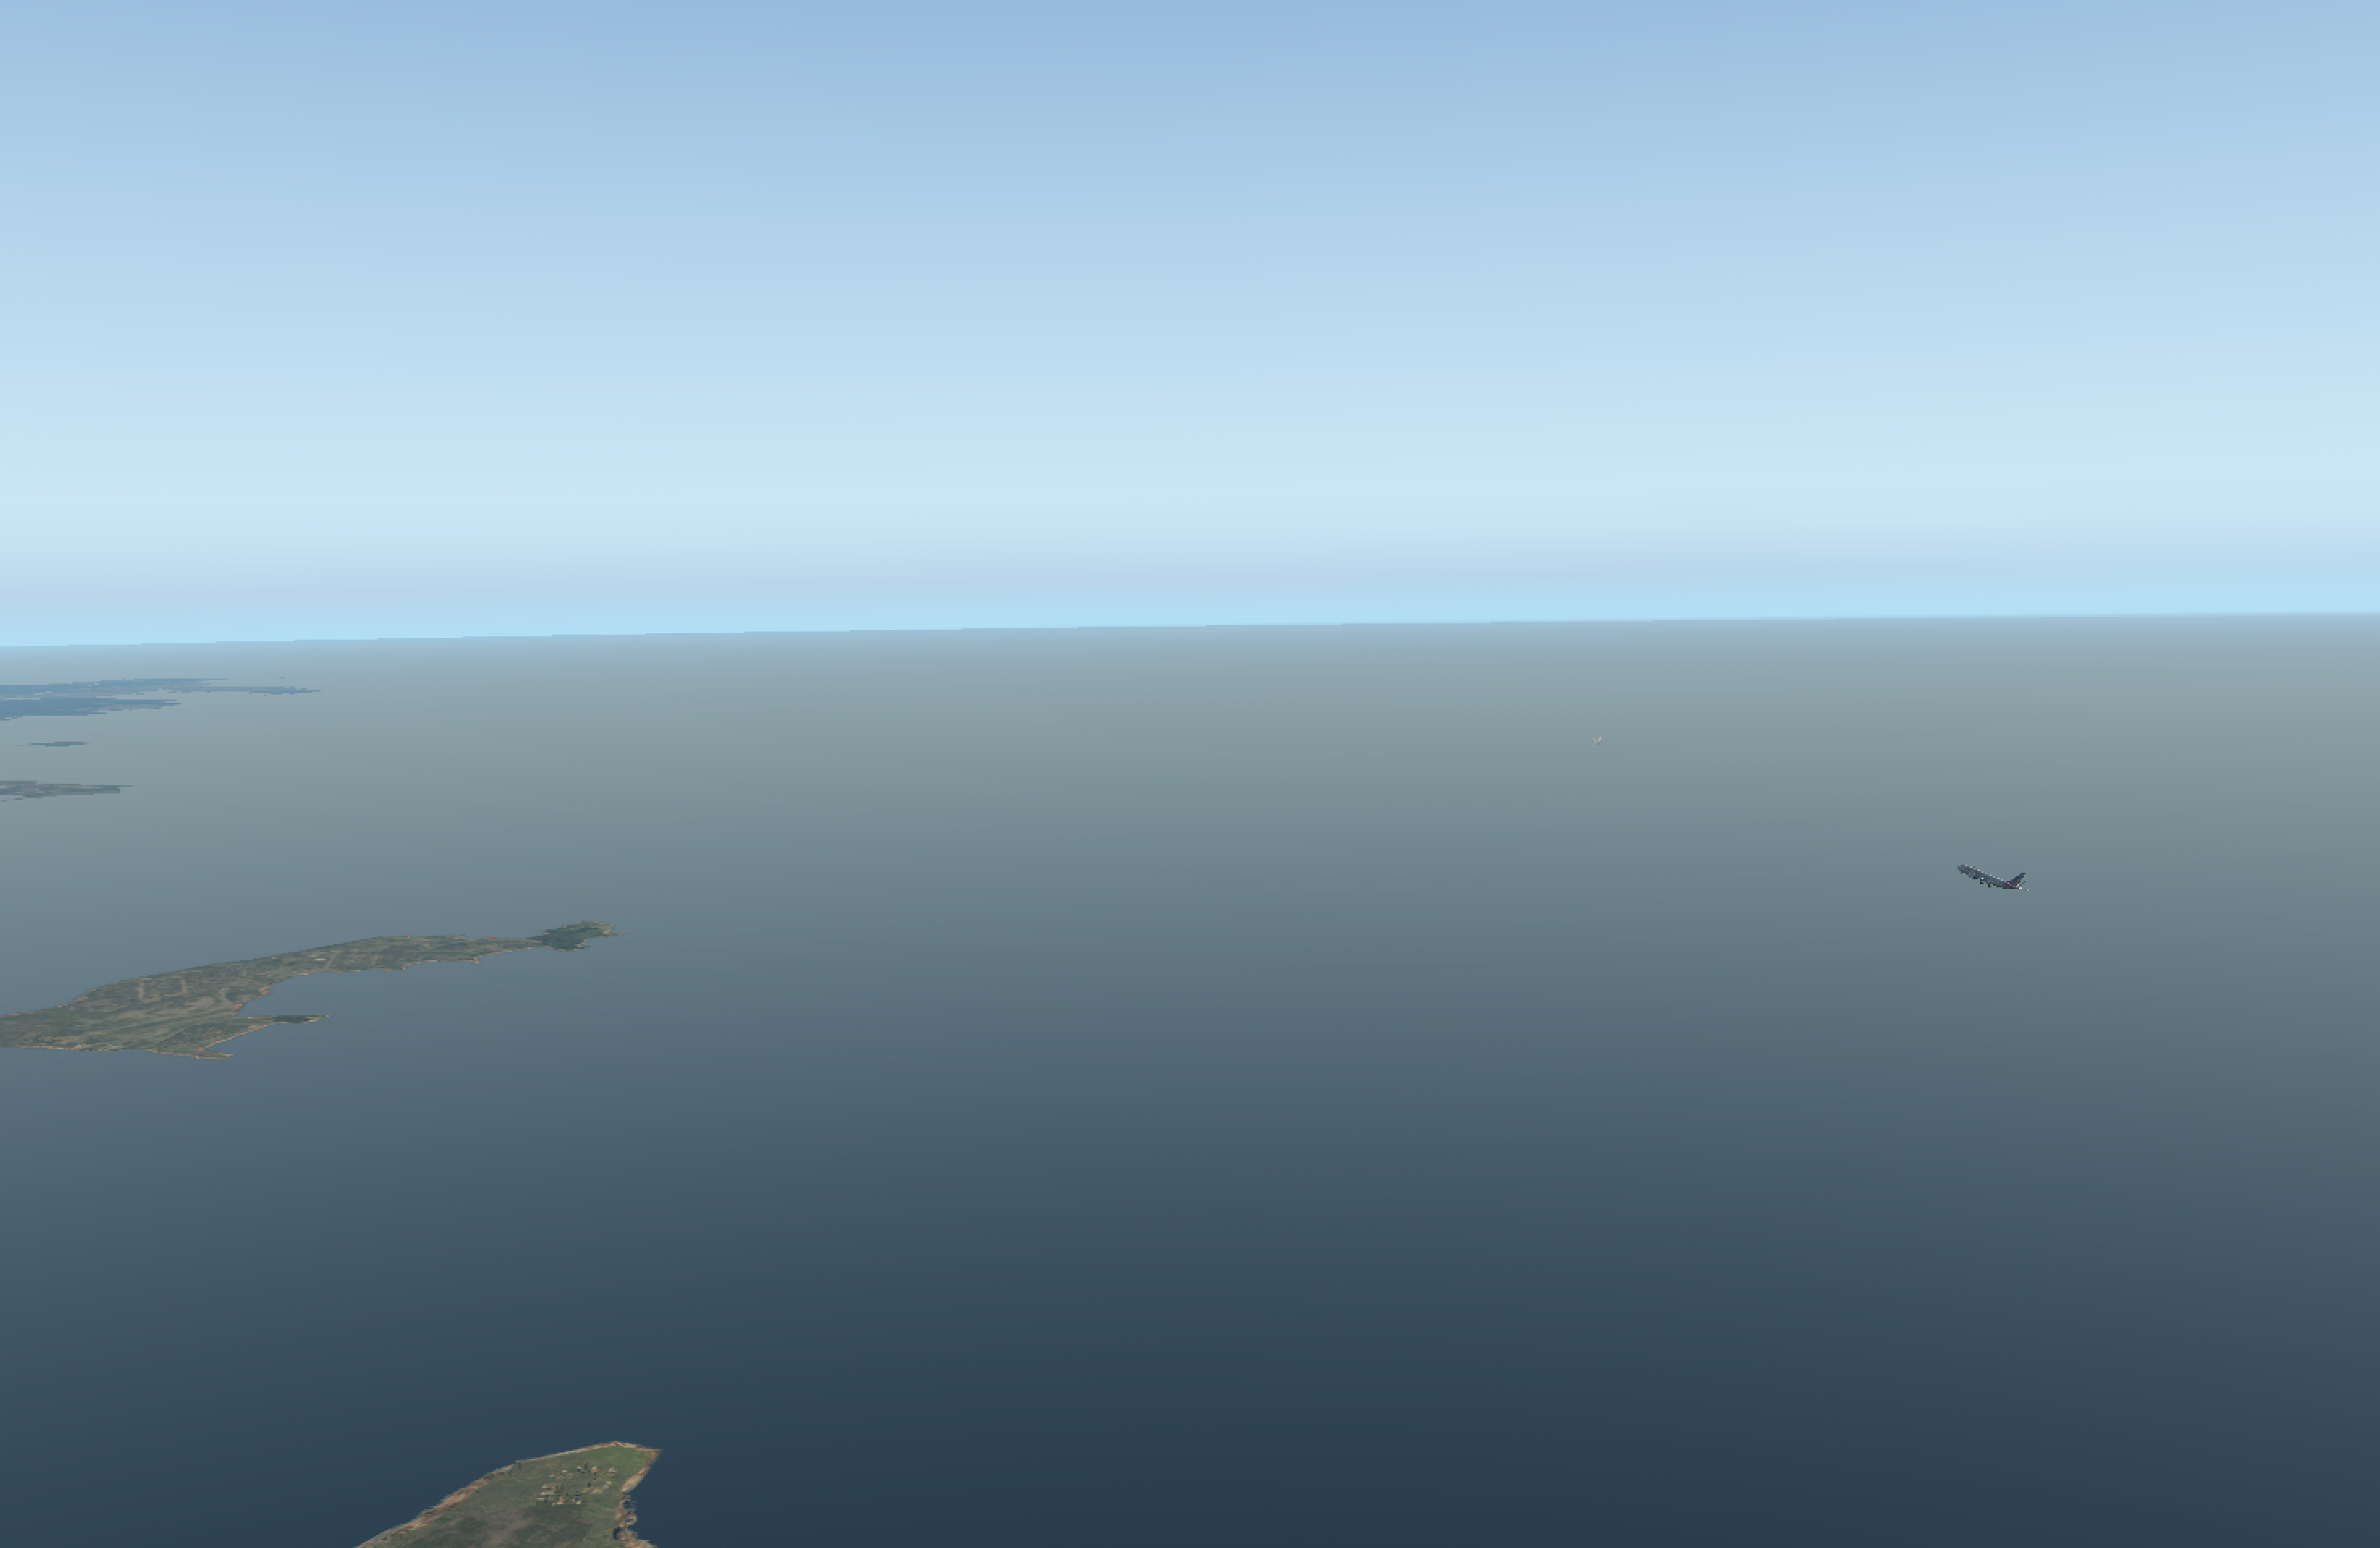aircraft: (1946, 864, 2023, 894)
